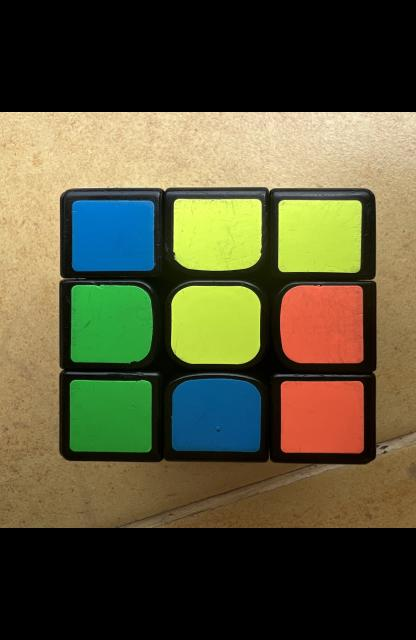Blue: (170, 378, 260, 452), (70, 201, 153, 271)
Green: (69, 284, 152, 363), (68, 380, 150, 452)
Orange: (279, 285, 363, 363), (279, 381, 363, 453)
Yellow: (169, 285, 259, 364), (173, 199, 260, 271), (277, 200, 362, 273)
